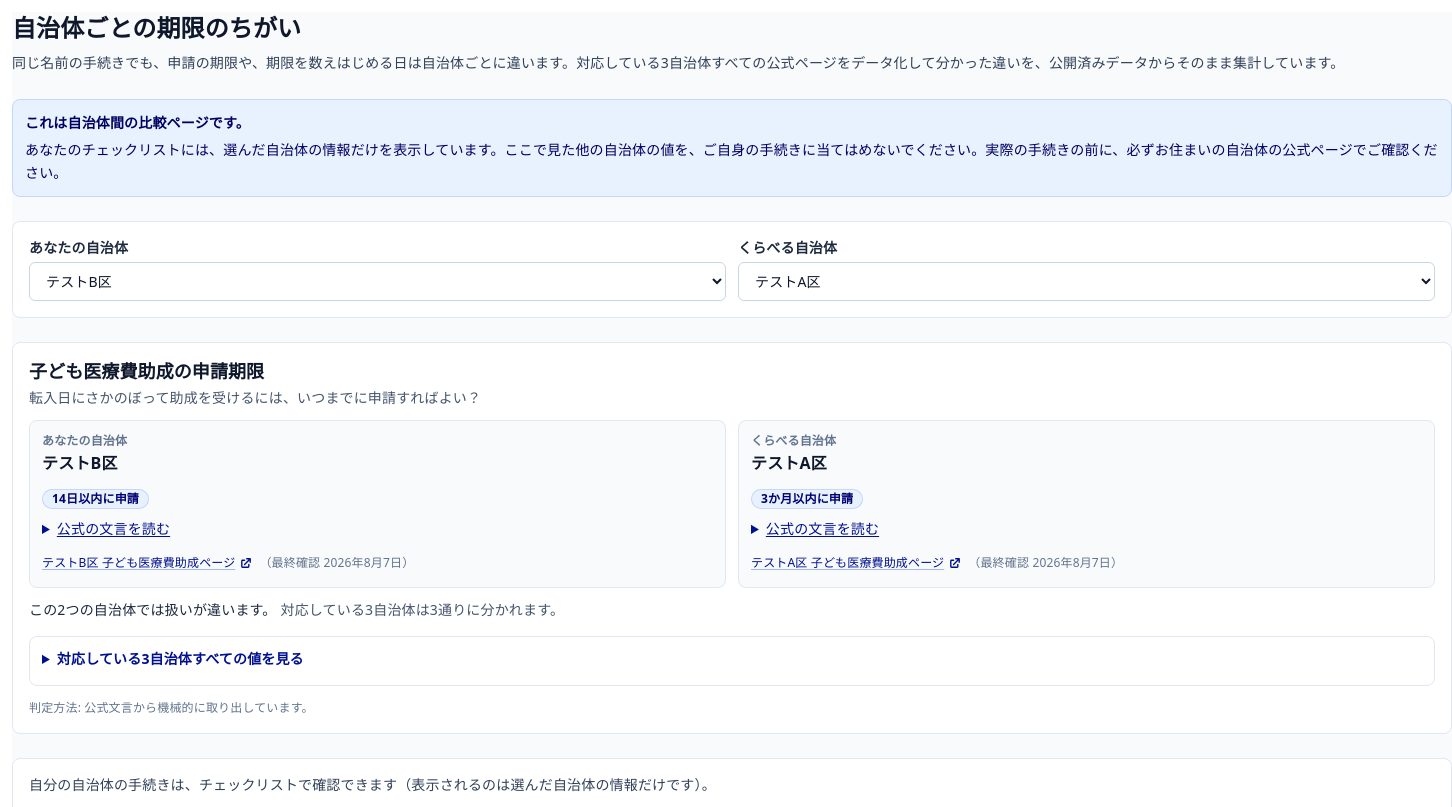
Scenario: 自治体ごとの期限のちがい(比較ページ) › 選択中の区から左を別の区へ変えたら「あなたの区」とは呼ばない
Expected: the heading "子ども医療費助成の申請期限" is shown, x1=29 y1=359 x2=264 y2=383
Step 1. Select "テストA区" in the dropdown labelled "あなたの自治体" → {"x": 378, "y": 282}, box x1=29 y1=262 x2=726 y2=301
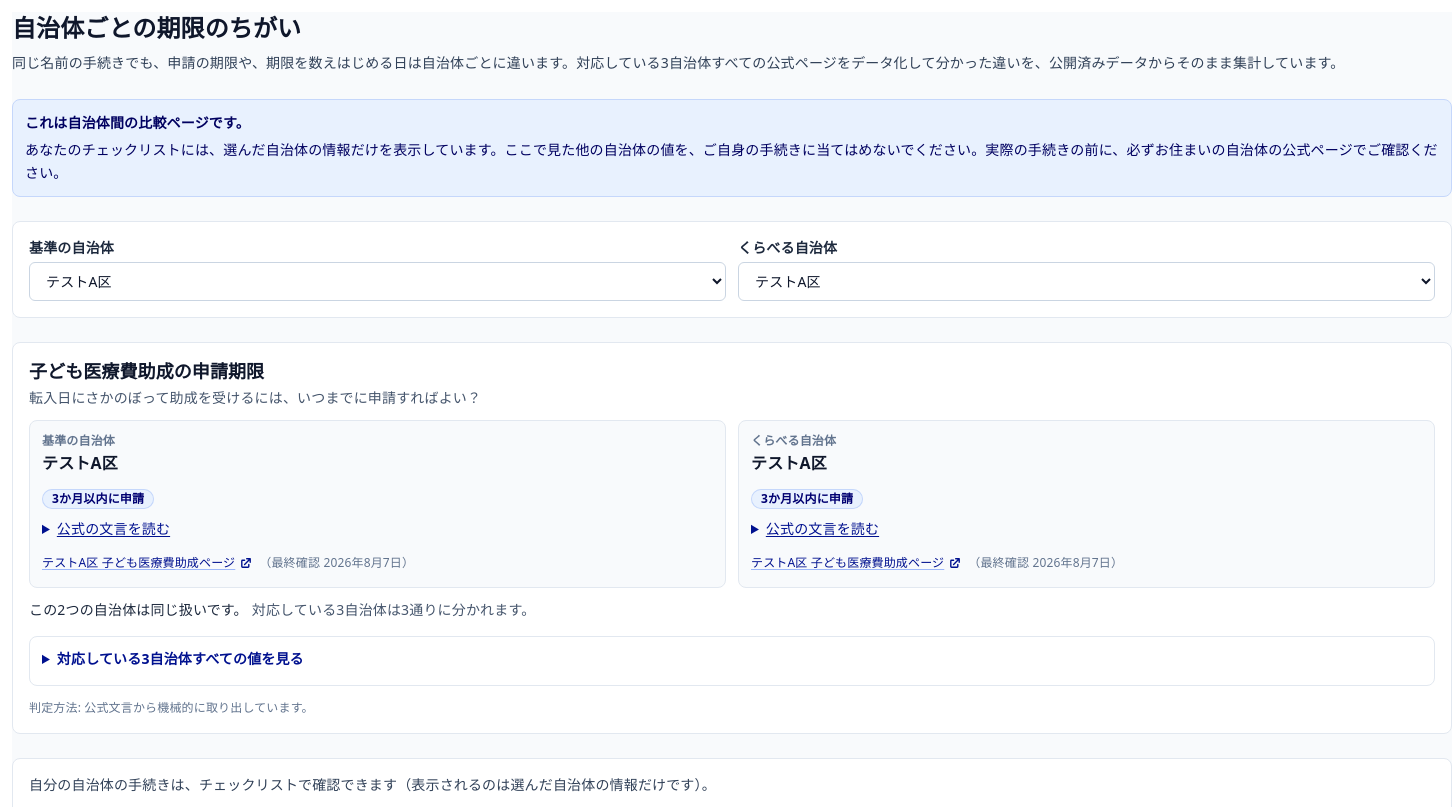
Now the label labelled "あなたの自治体" is gone
